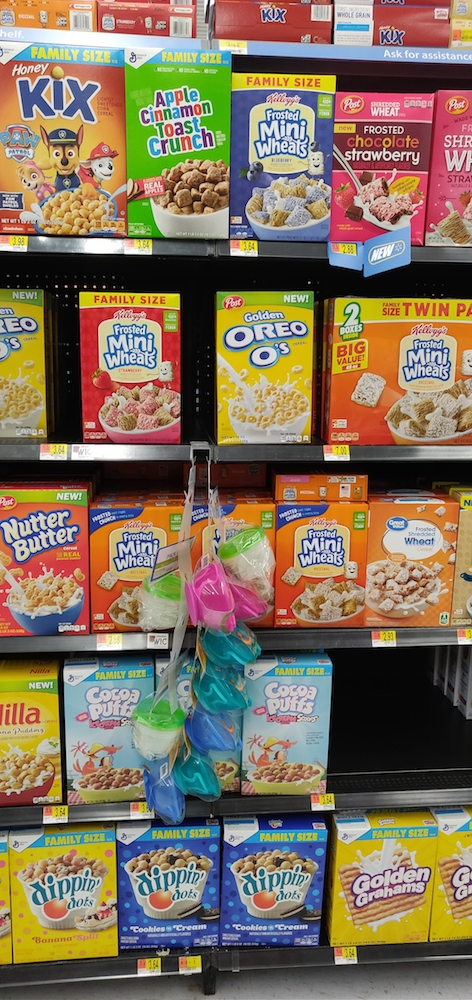Cocoa Puffs Ice Cream-563408546: (63, 671, 143, 800), (246, 670, 327, 792)
Dippin Dots Banana-568929376: (3, 836, 126, 968)
Dippin Dots Cookies & Cream -568929378: (215, 827, 322, 950), (117, 826, 221, 951)
Kix Honey -009258981: (1, 52, 129, 239)
Nutter Butter-565717511: (1, 494, 90, 639)
Oreo Golden-568301011: (218, 288, 310, 436)
